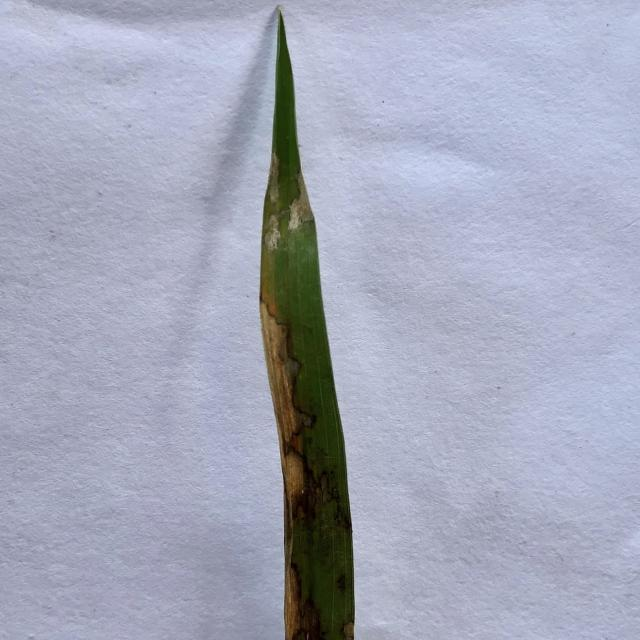leaf blight: (256, 301, 315, 503), (283, 540, 314, 640), (287, 177, 314, 237), (260, 153, 282, 204), (260, 214, 282, 253), (336, 619, 357, 640)
